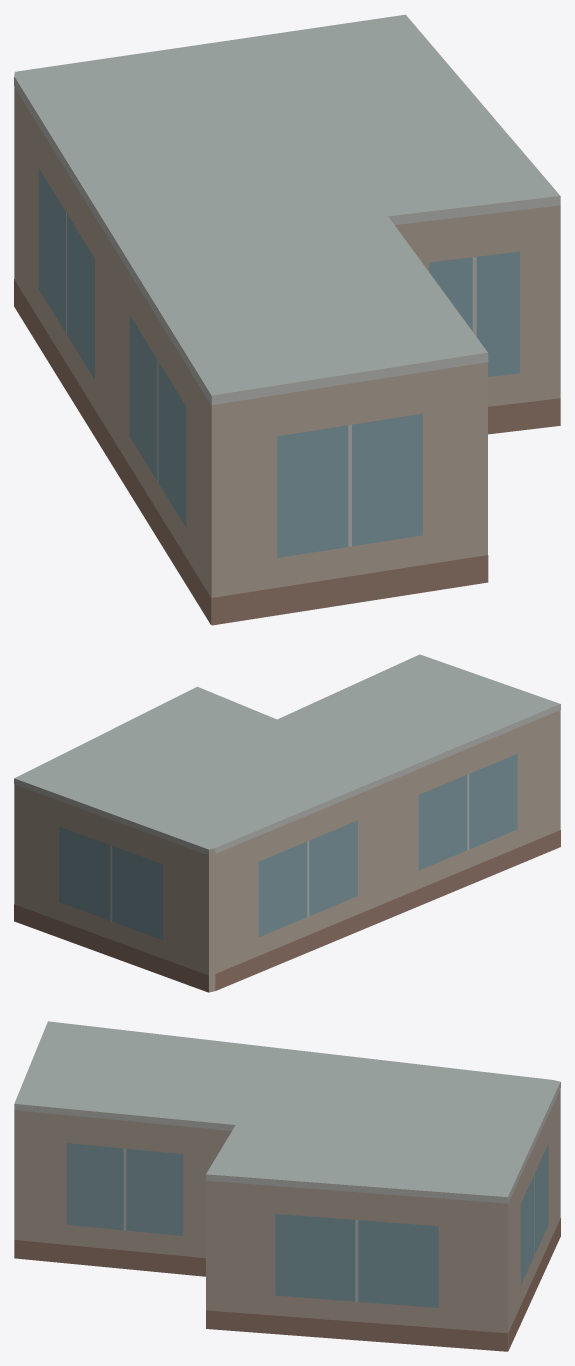
The model's file is survey-upis-32619606.glb.
3 renders of one model, top to bottom at view 1: azimuth 30°, elevation 25°; view 2: azimuth 150°, elevation 25°; view 3: azimuth 270°, elevation 25°, orthographic. The views are drawn at different scales.
Visible parts, largest first — view 1: survey-upis-32619606.tmp; view 2: survey-upis-32619606.tmp; view 3: survey-upis-32619606.tmp.
Boxes of the visible parts, left/top/right/bottom form: survey-upis-32619606.tmp: left=14, top=14, right=560, bottom=625; survey-upis-32619606.tmp: left=14, top=654, right=560, bottom=992; survey-upis-32619606.tmp: left=14, top=1021, right=560, bottom=1351.
Bounding box in the file's own units: 7.46 × 3.05 × 9.79.
